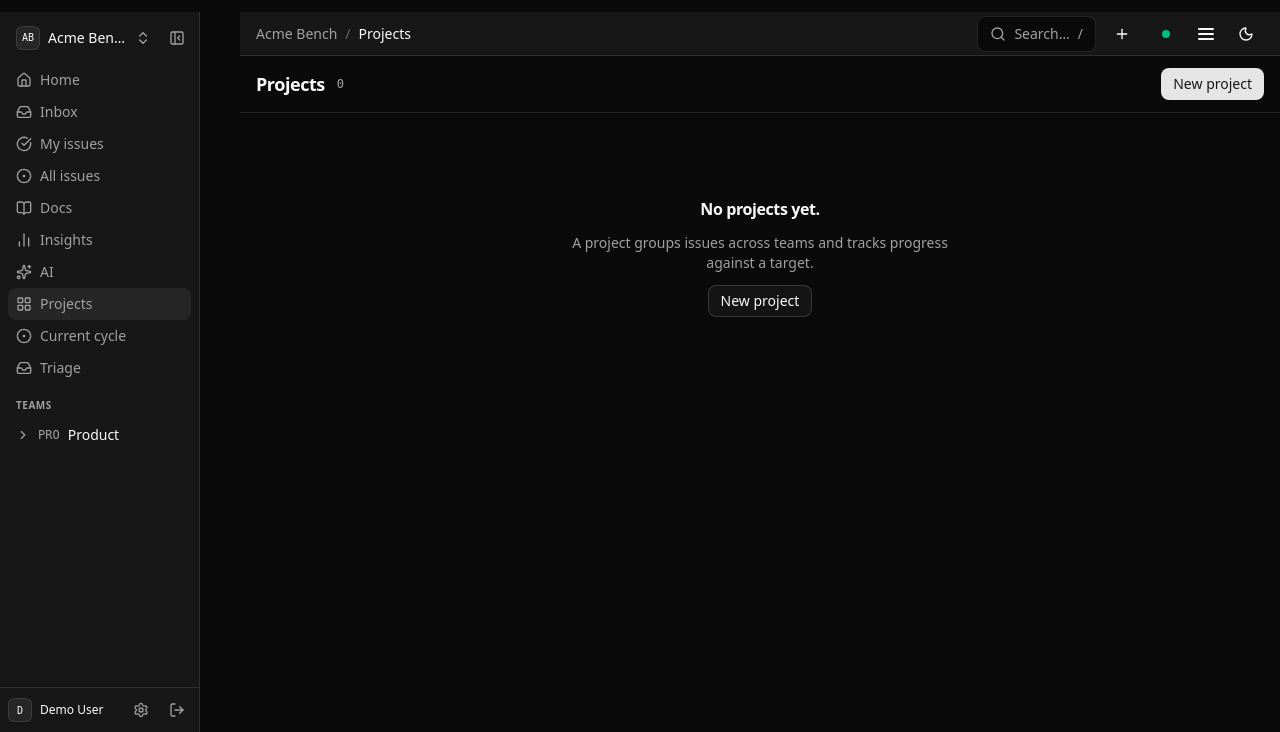
projects list › offers the empty state when the workspace has no projects
This screenshot has width=1280, height=732.
Click the link "Home" at {"x": 48, "y": 80}, box [16, 70, 80, 89]
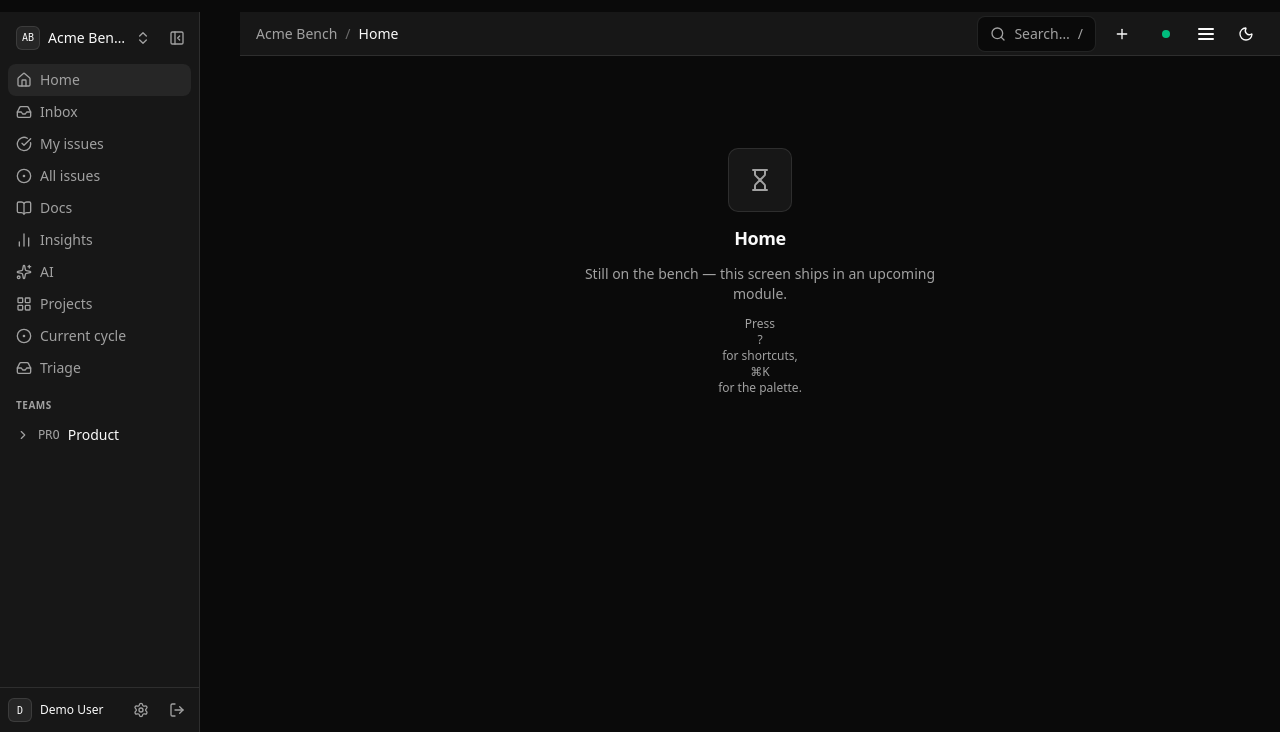
expect the heading "Home" is shown: met, box [734, 224, 786, 252]
Click the link "Projects" at {"x": 54, "y": 304}, box [16, 294, 92, 313]
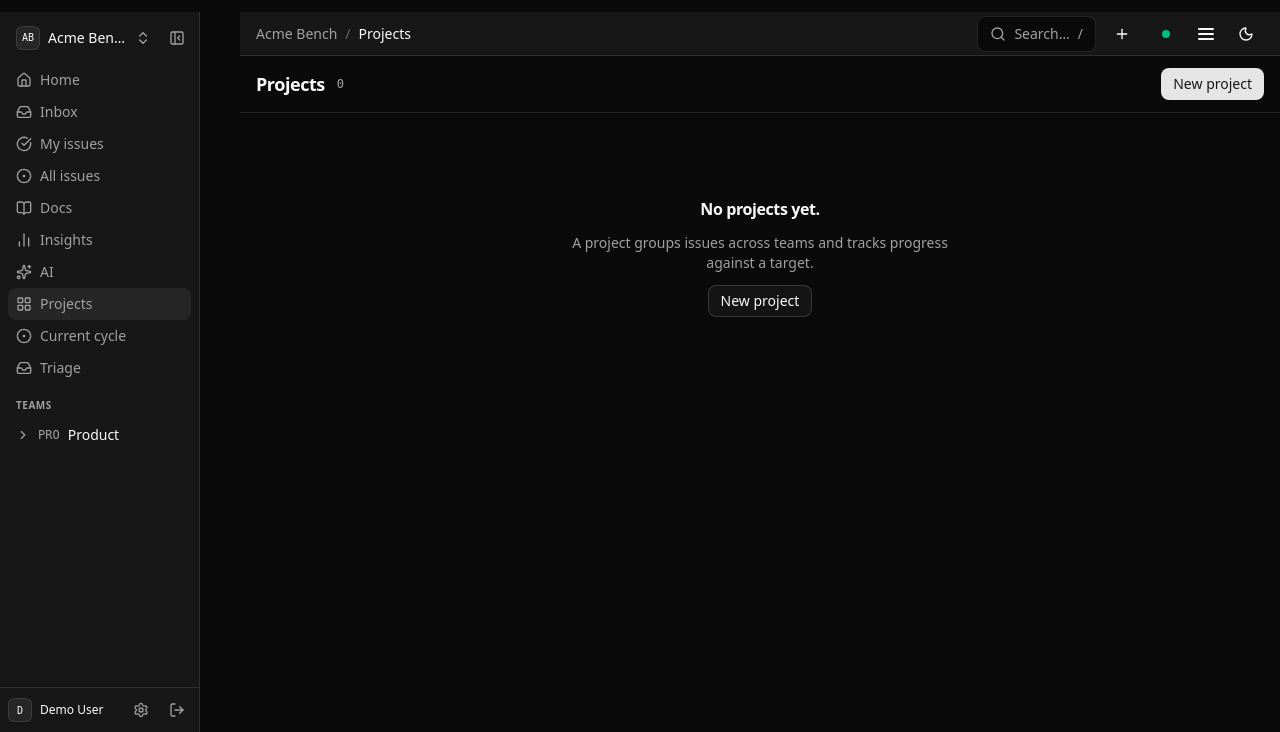
expect the heading "Projects" is shown: met, box [256, 70, 325, 98]
expect the heading "No projects yet." is shown: met, box [700, 197, 820, 221]
